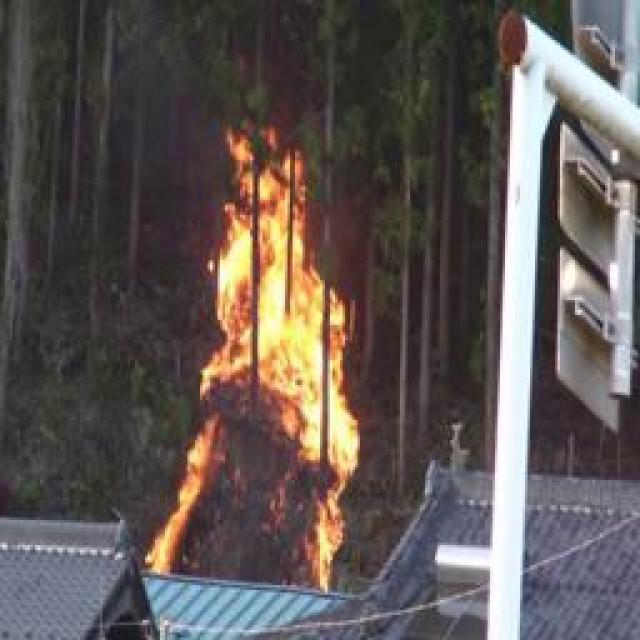Fire: (152, 125, 354, 589)
